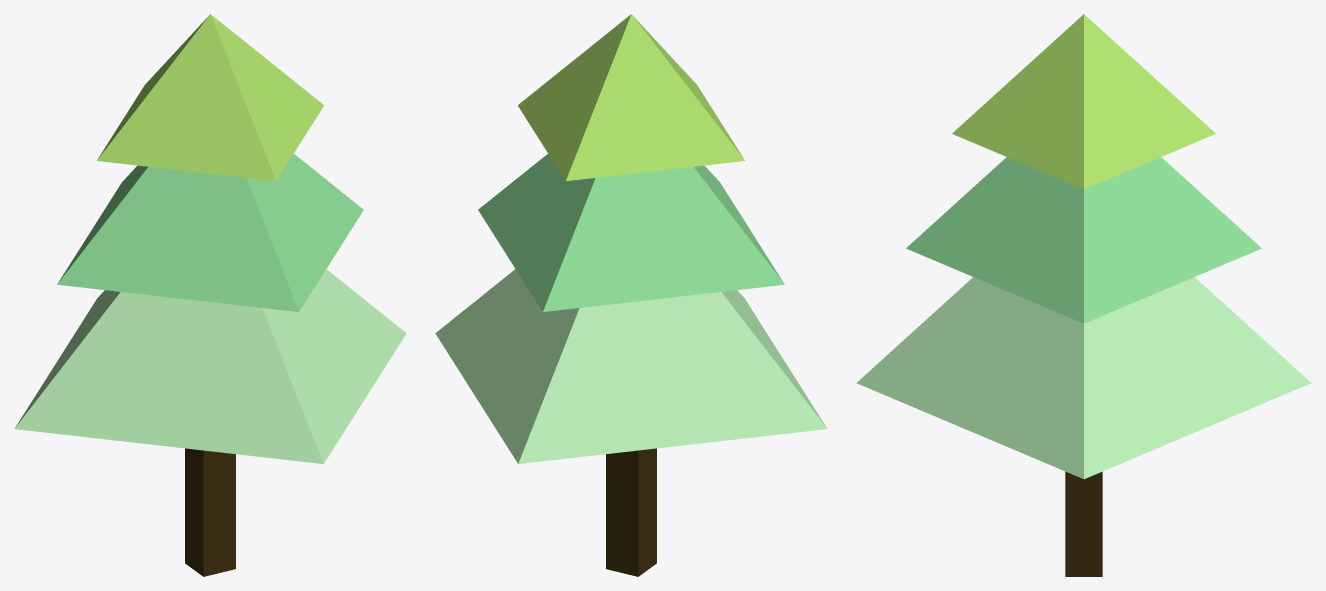
Rendered from New_LowPoly_Tree.fbx.
The picture shows the model from 3 angles, left to right: view 1: azimuth 30°, elevation 25°; view 2: azimuth 150°, elevation 25°; view 3: azimuth 270°, elevation 25°; orthographic projection.
Parts seen in each view (by area): view 1: Tree; view 2: Tree; view 3: Tree.
Part boxes in pixels (x1,y1,x2,y2): Tree: (14,14,406,576); Tree: (435,14,827,576); Tree: (856,14,1311,576).
Size of the model in its own units: 242 by 325 by 242.
4 materials, 4 textured.
